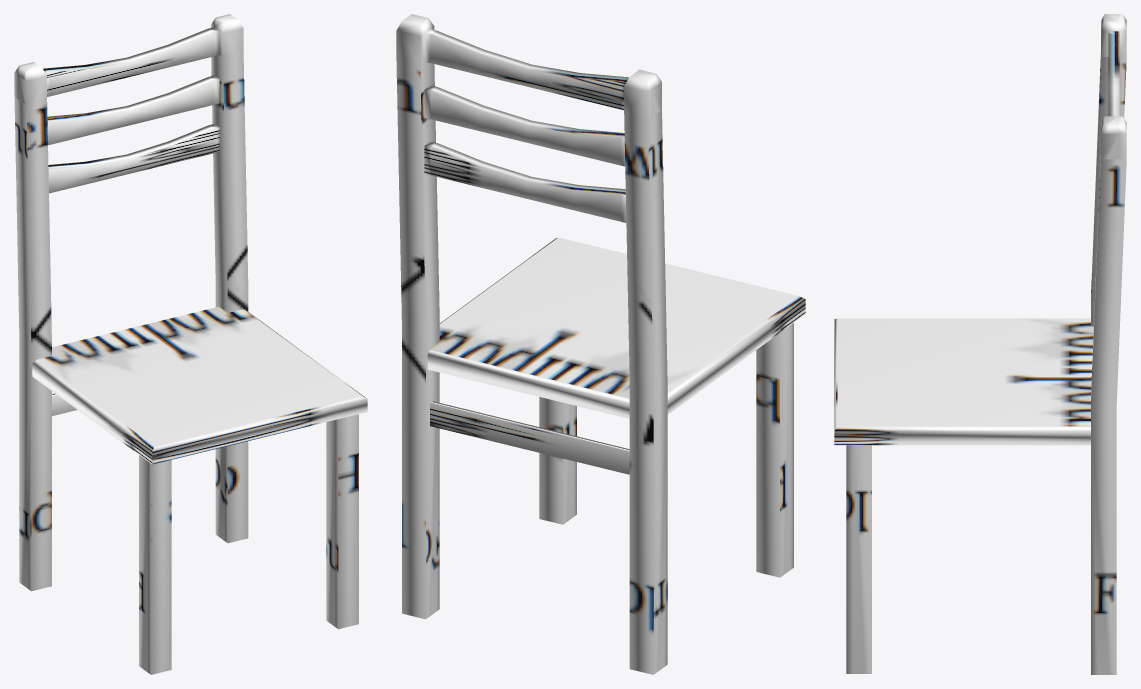
File: doctor chair.fbx
3 views of the same model, side by side, from view 1: azimuth 30°, elevation 25°; view 2: azimuth 150°, elevation 25°; view 3: azimuth 270°, elevation 25° (orthographic). The views are drawn at different scales.
Parts seen in each view (by area): view 1: chair1; view 2: chair1; view 3: chair1.
Part boxes in pixels (x1,y1,x2,y2): chair1: (14,14,367,674); chair1: (396,14,805,674); chair1: (834,14,1126,674).
Bounding box in the file's own units: 44 × 99.79 × 48.05.
